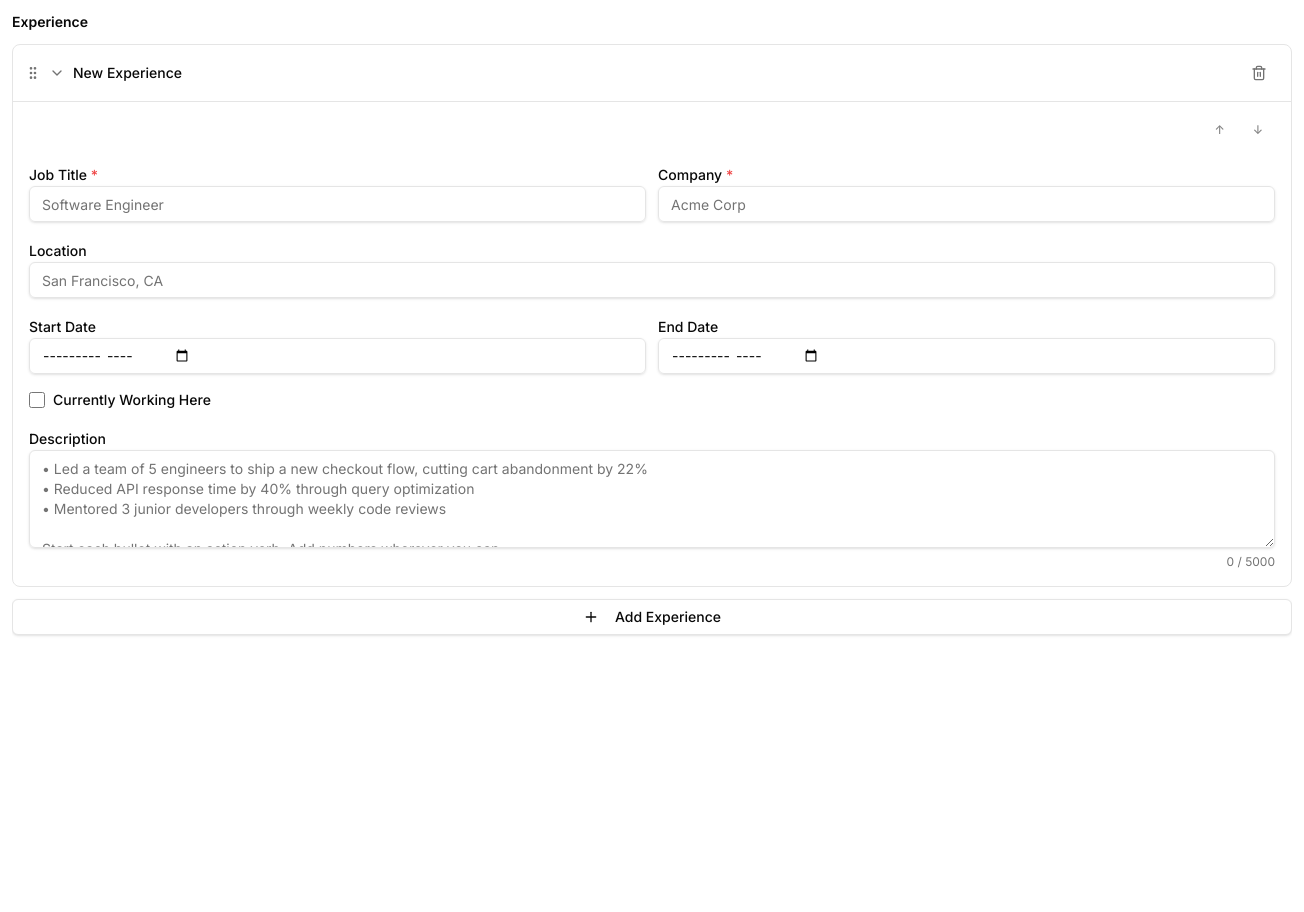
Test case: ExperienceForm — field updates › typing in Job Title updates the store
Step 1. Type "Senior Engineer" into the field labelled "Job Title *" → coordinates (338, 204), box [29,186,646,222]
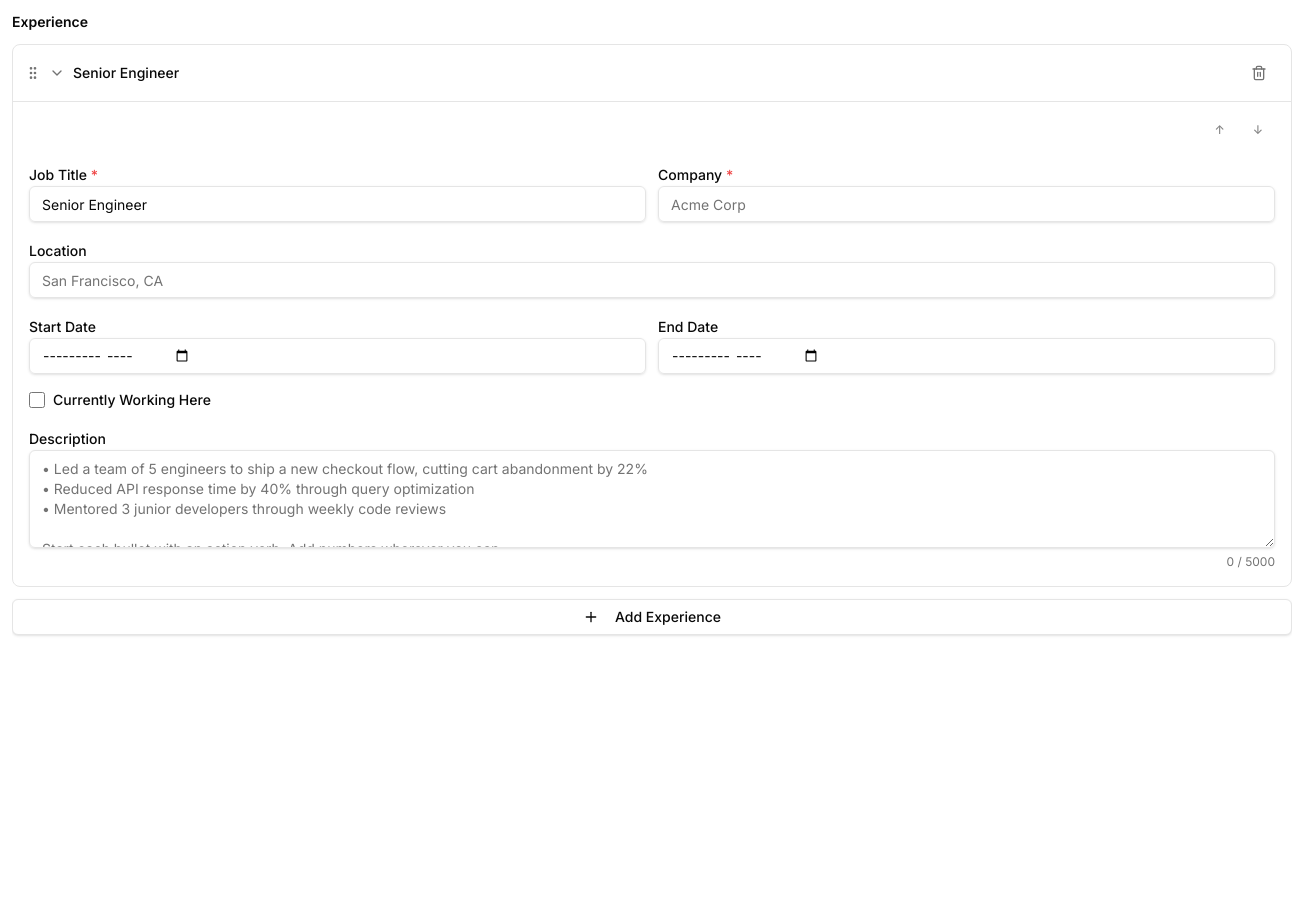
Check: the text "Senior Engineer" is shown, box [73,64,179,81]
